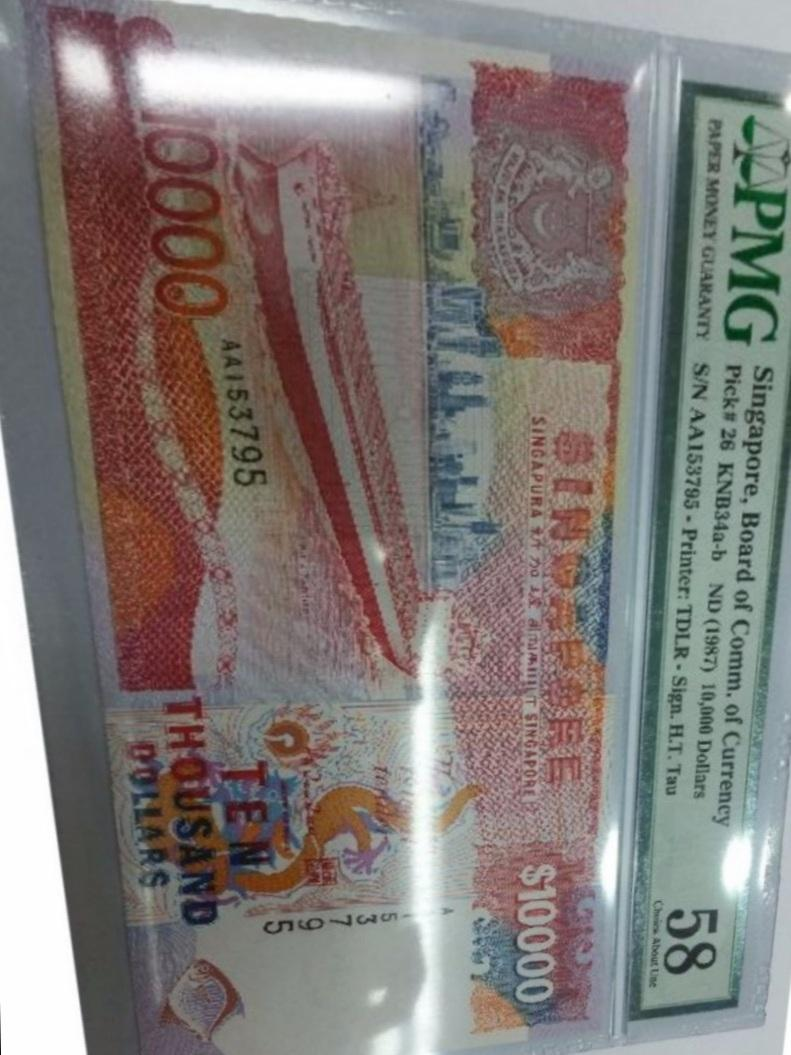10000SingaporeDollar: (48, 34, 604, 1055)
